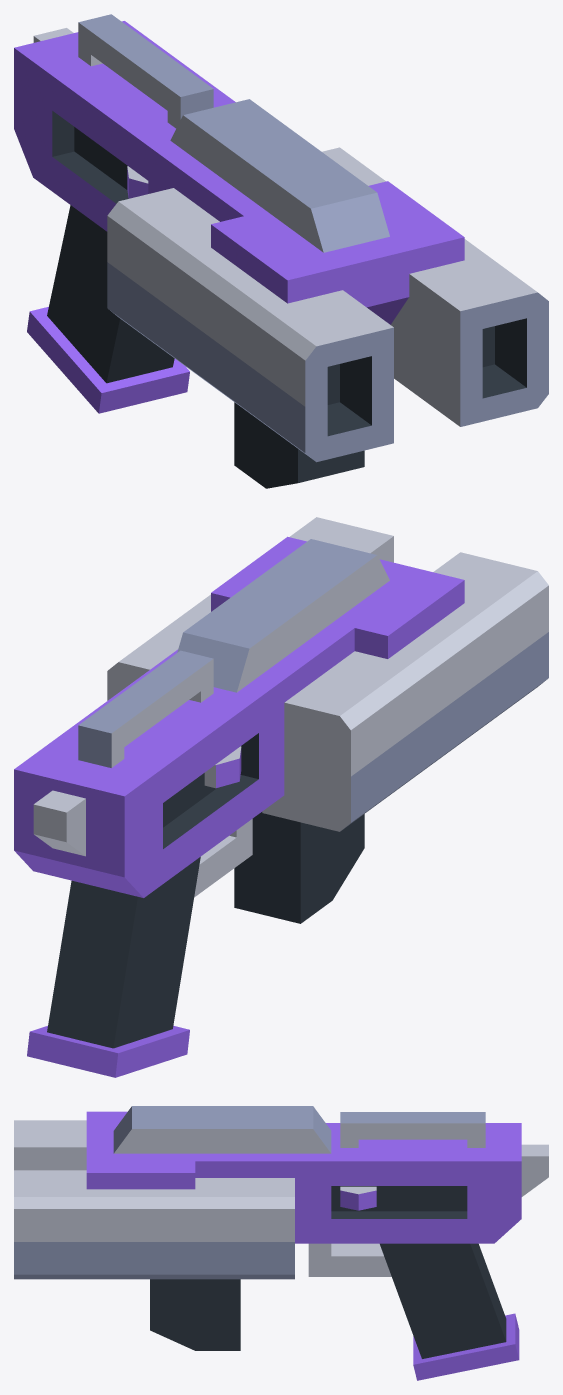
Rendered from blasterL.glb.
The picture shows the model from 3 angles, top to bottom: view 1: azimuth 30°, elevation 25°; view 2: azimuth 150°, elevation 25°; view 3: azimuth 270°, elevation 25°; orthographic projection. The views are drawn at different scales.
Parts seen in each view (by area): view 1: blasterL; view 2: blasterL; view 3: blasterL.
Boxes of the visible parts, <box> form: blasterL: <box>14,14,548,488</box>; blasterL: <box>14,517,548,1077</box>; blasterL: <box>14,1106,548,1380</box>.
Size of the model in its own units: 0.22 by 0.3017 by 0.59.
